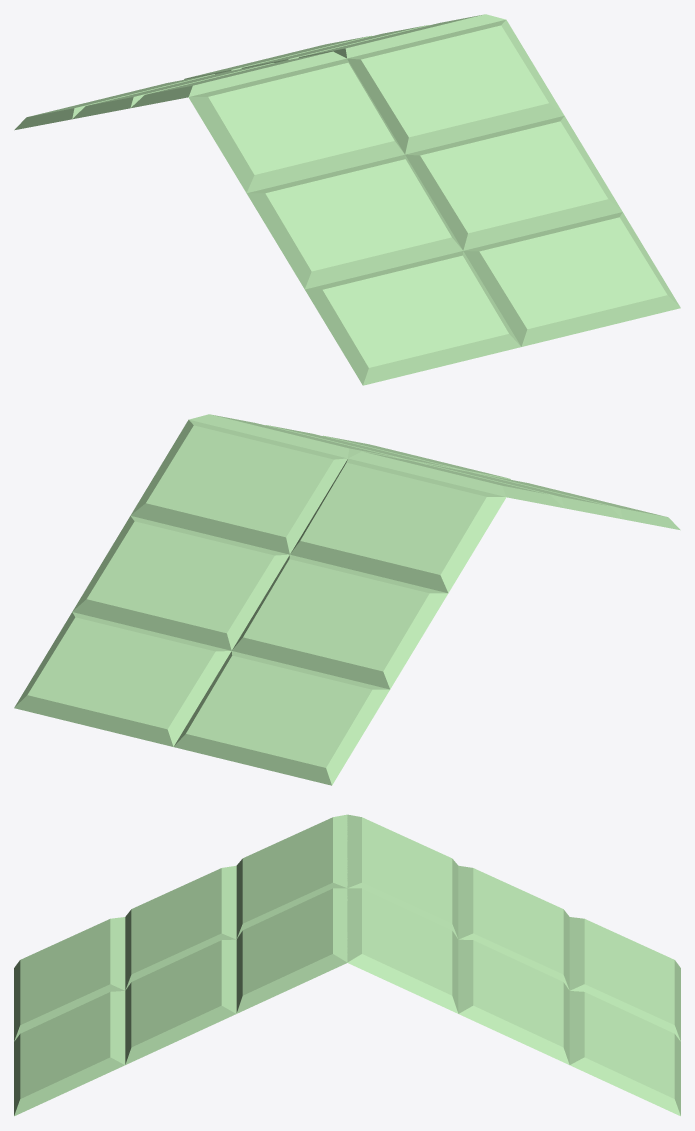
The model's file is Museum_Ceil.fbx.
The picture shows the model from 3 angles, top to bottom: view 1: azimuth 30°, elevation 25°; view 2: azimuth 150°, elevation 25°; view 3: azimuth 270°, elevation 25°; orthographic projection. The views are drawn at different scales.
Parts seen in each view (by area): view 1: Archi_Toit_01.001; view 2: Archi_Toit_01.001; view 3: Archi_Toit_01.001.
Boxes of the visible parts, bbox=[...] form: Archi_Toit_01.001: bbox=[14, 14, 680, 385]; Archi_Toit_01.001: bbox=[14, 414, 680, 785]; Archi_Toit_01.001: bbox=[14, 814, 680, 1116].
Size of the model in its own units: 591 by 291 by 1123.
